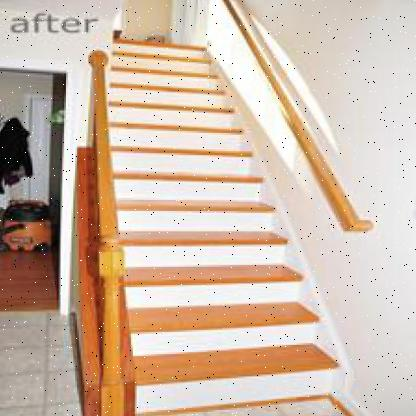stair_up: (128, 305, 363, 416)
